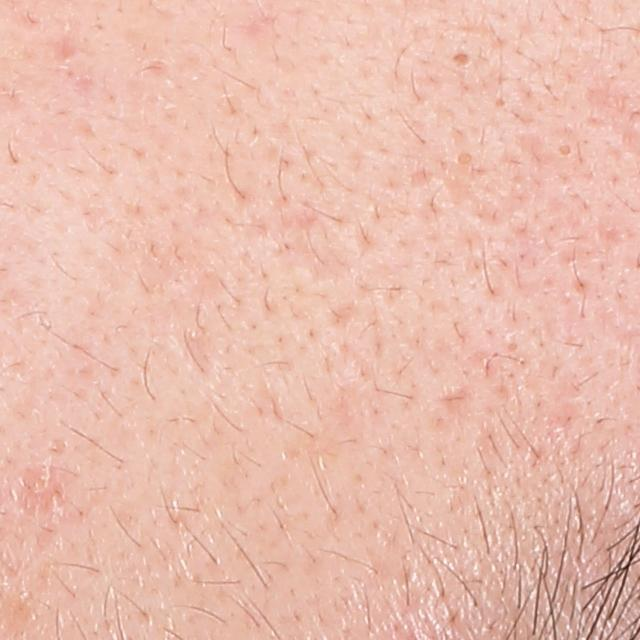atrophic_scar: (14, 422, 86, 528), (439, 168, 508, 225), (172, 332, 218, 396), (50, 25, 97, 66), (320, 299, 360, 337), (439, 378, 477, 416), (516, 131, 544, 160)
comedo: (264, 198, 359, 287), (442, 44, 476, 76), (453, 147, 476, 172), (554, 141, 576, 162)
